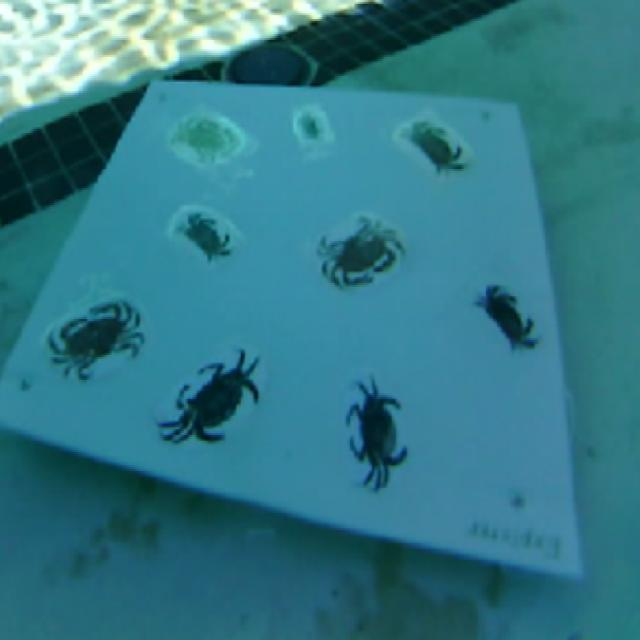green_crab: (157, 349, 259, 439), (346, 376, 406, 490), (291, 104, 334, 156)
jonah_crab: (46, 298, 144, 380), (319, 215, 404, 287), (167, 112, 248, 167)
rock_crab: (475, 285, 539, 349), (409, 122, 463, 171), (182, 213, 230, 260)
